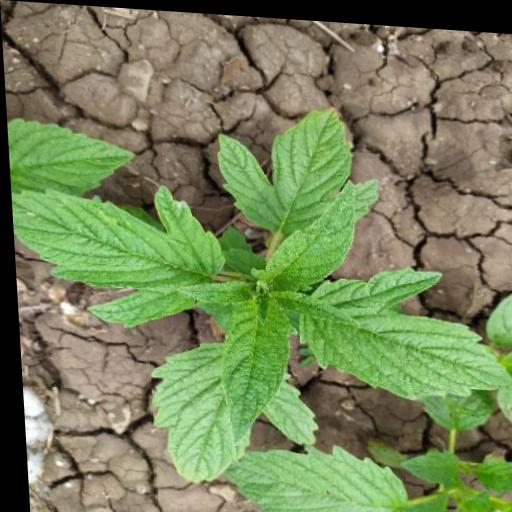crop: (3, 75, 512, 469)
